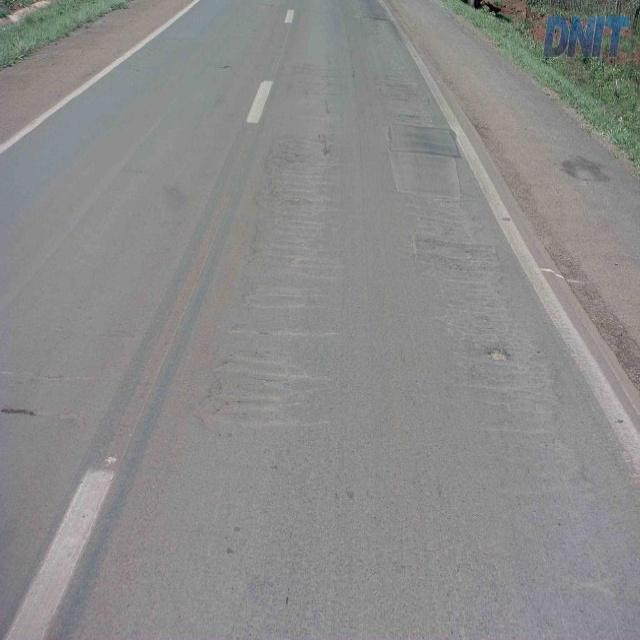pothole: (479, 336, 514, 364)
